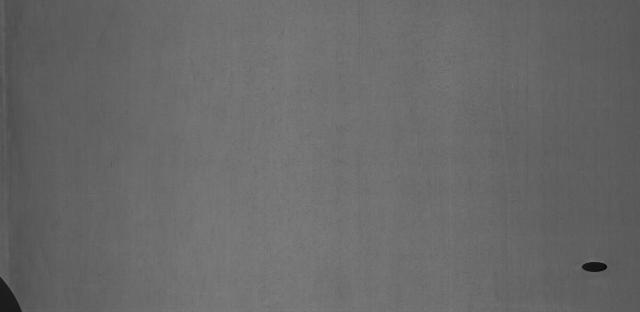crescent_gap: (0, 274, 27, 312)
punching_hole: (580, 257, 610, 277)
